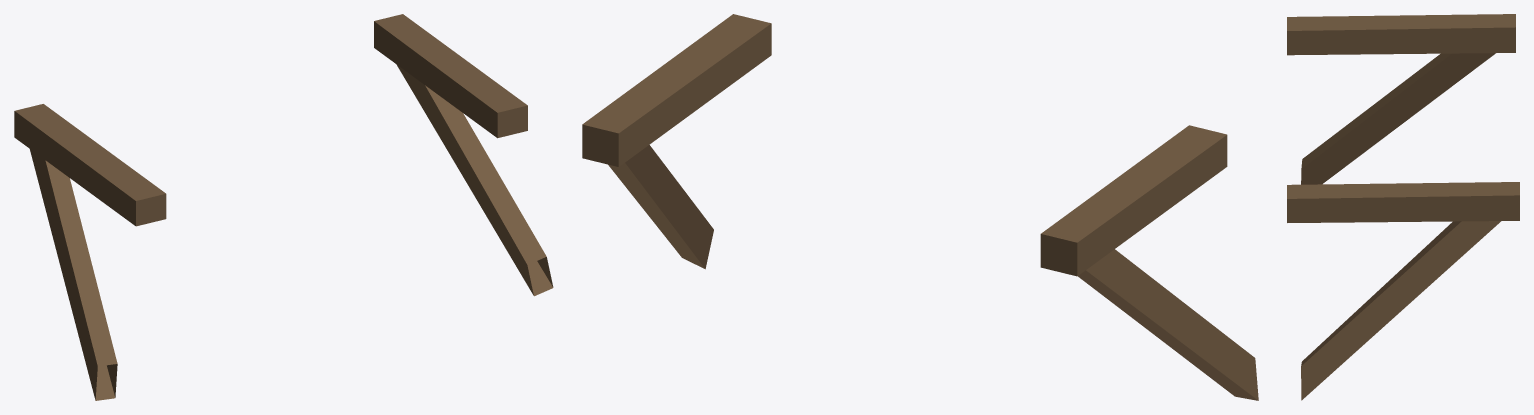
The model's file is rpgpp_ag_gate_balcony_support_02.fbx.
3 renders of one model, left to right at view 1: azimuth 30°, elevation 25°; view 2: azimuth 150°, elevation 25°; view 3: azimuth 270°, elevation 25°, orthographic. The views are drawn at different scales.
Parts seen in each view (by area): view 1: rpgpp_ag_gate_balcony_support_02; view 2: rpgpp_ag_gate_balcony_support_02; view 3: rpgpp_ag_gate_balcony_support_02.
Boxes of the visible parts, bbox=[...] form: rpgpp_ag_gate_balcony_support_02: bbox=[14, 14, 553, 400]; rpgpp_ag_gate_balcony_support_02: bbox=[582, 14, 1258, 400]; rpgpp_ag_gate_balcony_support_02: bbox=[1287, 14, 1519, 400].
Size of the model in its own units: 4.73 by 2 by 2.19.
